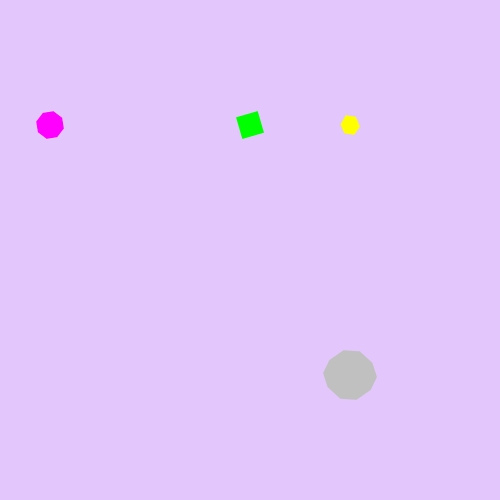decagon: (320, 347, 381, 403)
hexagon: (335, 112, 365, 138)
octagon: (32, 107, 69, 144)
quadrilateral: (231, 106, 270, 145)
